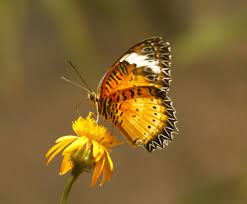butterfly: (53, 35, 181, 120)
flower: (52, 121, 120, 193)
